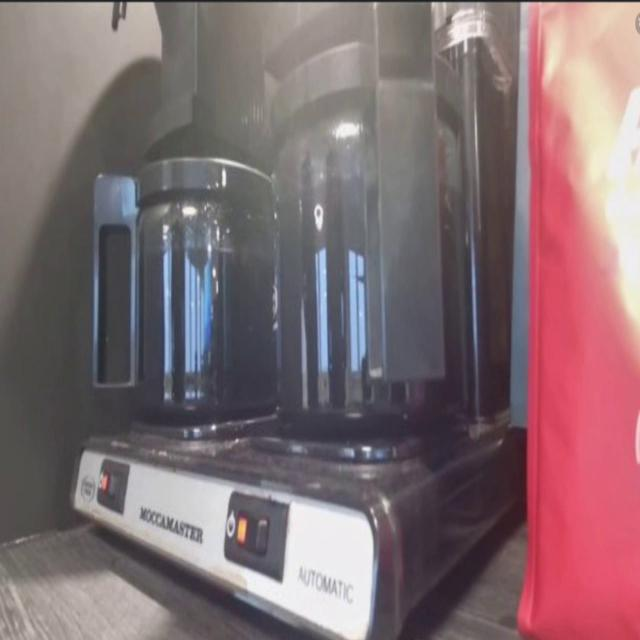coffee: (290, 144, 463, 422), (135, 214, 275, 411)
